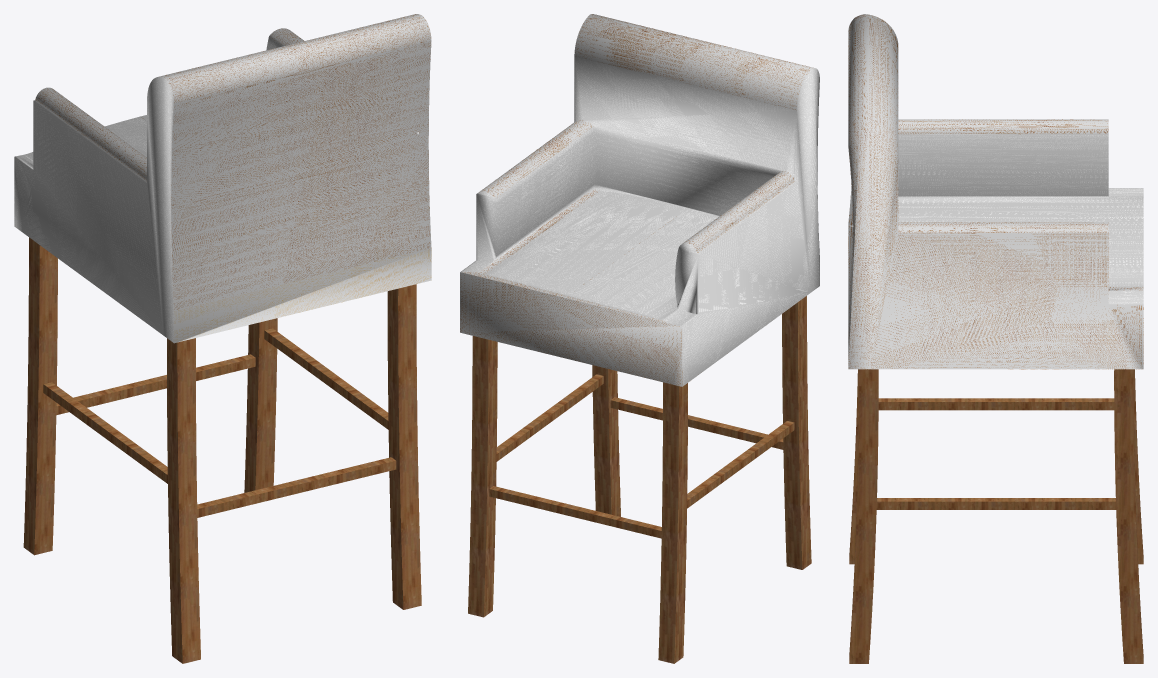
3 views of the same model, side by side, from view 1: azimuth 30°, elevation 25°; view 2: azimuth 150°, elevation 25°; view 3: azimuth 270°, elevation 25° (orthographic). The views are drawn at different scales.
Visible parts, largest first — view 1: mesh1_mesh1-geometry, mesh11_mesh11-geometry, mesh15_mesh15-geometry, mesh9_mesh9-geometry, mesh13_mesh13-geometry, mesh19_mesh19-geometry, mesh17_mesh17-geometry, mesh21_mesh21-geometry, mesh23_mesh23-geometry; view 2: mesh1_mesh1-geometry, mesh9_mesh9-geometry, mesh13_mesh13-geometry, mesh11_mesh11-geometry, mesh15_mesh15-geometry, mesh17_mesh17-geometry, mesh19_mesh19-geometry, mesh21_mesh21-geometry, mesh23_mesh23-geometry; view 3: mesh1_mesh1-geometry, mesh15_mesh15-geometry, mesh13_mesh13-geometry, mesh23_mesh23-geometry, mesh21_mesh21-geometry, mesh9_mesh9-geometry, mesh11_mesh11-geometry.
Part boxes in pixels (bbox=[...]): mesh1_mesh1-geometry: bbox=[14, 14, 431, 343]; mesh11_mesh11-geometry: bbox=[167, 338, 200, 663]; mesh15_mesh15-geometry: bbox=[387, 284, 421, 609]; mesh9_mesh9-geometry: bbox=[23, 237, 57, 555]; mesh13_mesh13-geometry: bbox=[244, 318, 277, 492]; mesh19_mesh19-geometry: bbox=[197, 457, 396, 517]; mesh17_mesh17-geometry: bbox=[56, 354, 255, 415]; mesh21_mesh21-geometry: bbox=[264, 328, 388, 429]; mesh23_mesh23-geometry: bbox=[43, 382, 167, 483]; mesh1_mesh1-geometry: bbox=[460, 14, 819, 386]; mesh9_mesh9-geometry: bbox=[658, 382, 687, 663]; mesh13_mesh13-geometry: bbox=[468, 336, 497, 617]; mesh11_mesh11-geometry: bbox=[782, 296, 811, 569]; mesh15_mesh15-geometry: bbox=[592, 365, 620, 516]; mesh17_mesh17-geometry: bbox=[489, 486, 661, 538]; mesh19_mesh19-geometry: bbox=[610, 397, 783, 449]; mesh21_mesh21-geometry: bbox=[496, 374, 603, 461]; mesh23_mesh23-geometry: bbox=[687, 421, 794, 508]; mesh1_mesh1-geometry: bbox=[848, 14, 1143, 369]; mesh15_mesh15-geometry: bbox=[849, 369, 878, 663]; mesh13_mesh13-geometry: bbox=[1114, 369, 1143, 663]; mesh23_mesh23-geometry: bbox=[878, 398, 1114, 410]; mesh21_mesh21-geometry: bbox=[876, 498, 1116, 509]; mesh9_mesh9-geometry: bbox=[1133, 369, 1143, 564]; mesh11_mesh11-geometry: bbox=[849, 369, 858, 564].
Size of the model in its own units: 0.3831 by 0.8271 by 0.4113.
4 materials, 2 textured.
